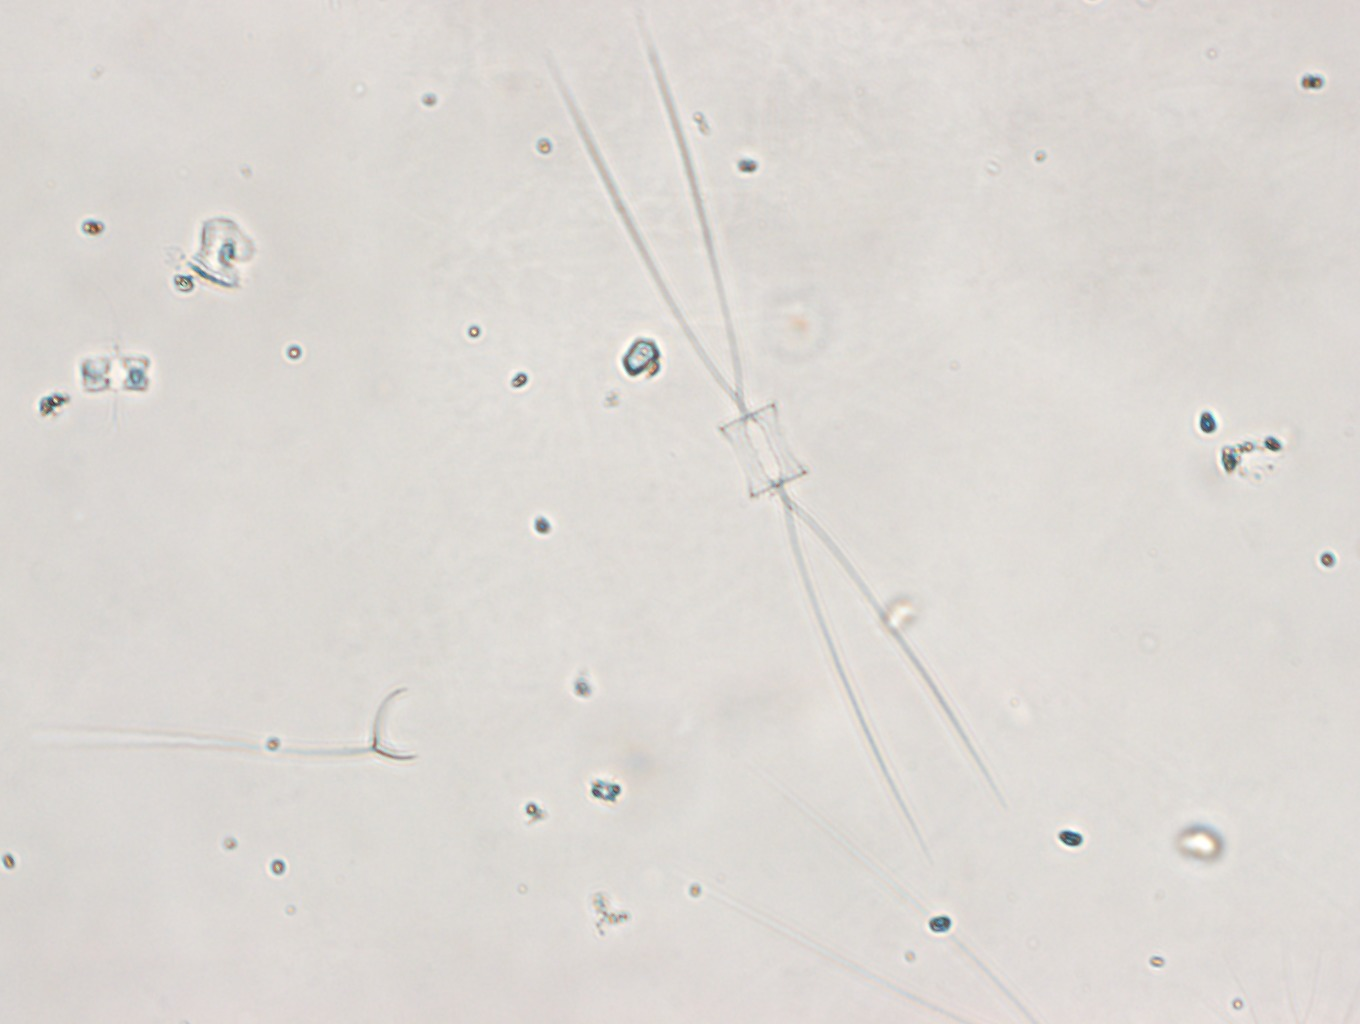chaetoceros: (544, 4, 1000, 824)
